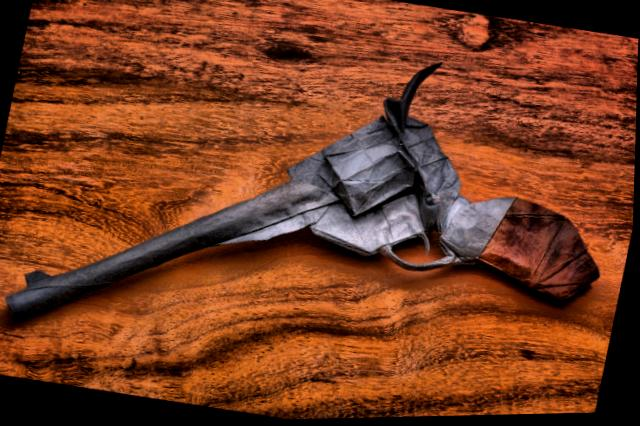pistol: (0, 0, 640, 424)
